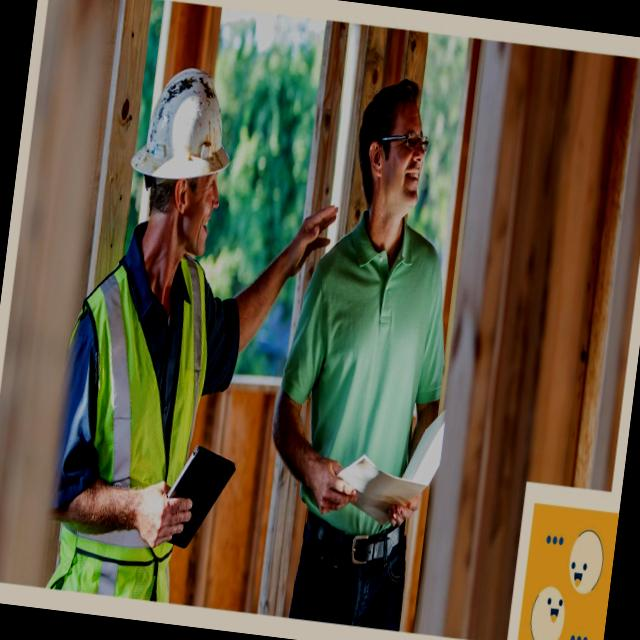goggles: (370, 122, 436, 168)
helmet: (125, 55, 244, 200), (346, 66, 436, 156)
no-vest: (276, 217, 459, 562)
vest: (42, 249, 235, 605)
